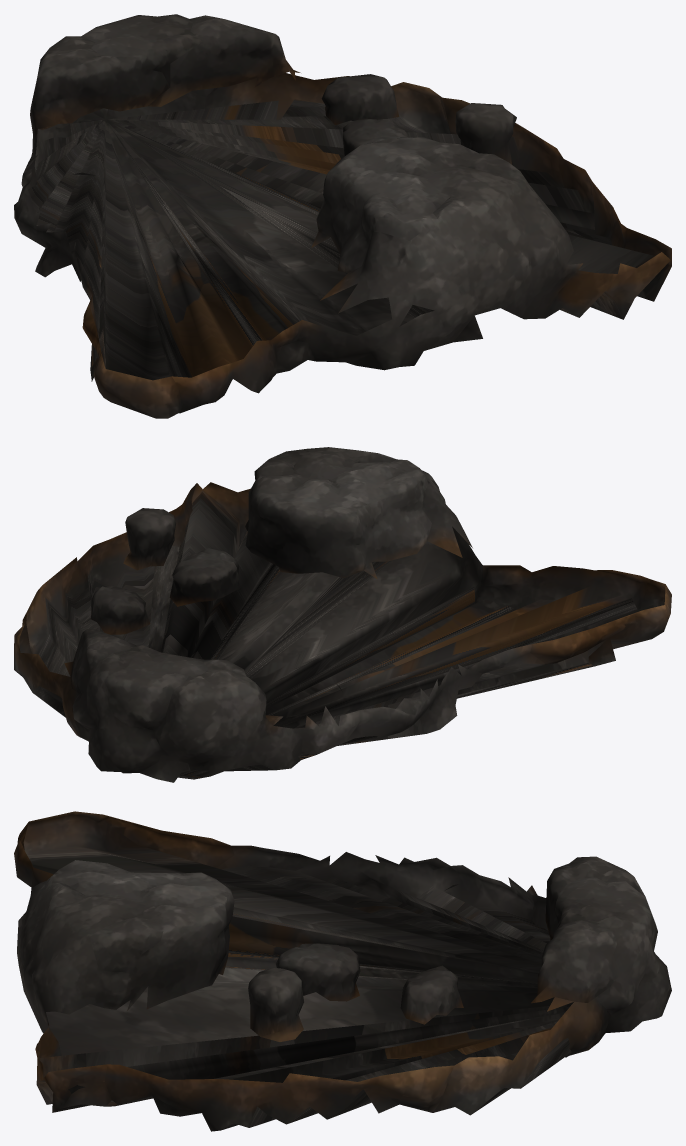
File: platform2collider2.fbx
3 views of the same model, one above another, from view 1: azimuth 30°, elevation 25°; view 2: azimuth 150°, elevation 25°; view 3: azimuth 270°, elevation 25° (orthographic). The views are drawn at different scales.
Visible parts, largest first — view 1: platform2collider2; view 2: platform2collider2; view 3: platform2collider2.
Part boxes in pixels (bbox=[...]): platform2collider2: bbox=[14, 14, 671, 418]; platform2collider2: bbox=[14, 447, 671, 782]; platform2collider2: bbox=[14, 811, 671, 1131].
Size of the model in its own units: 5818 by 1484 by 6002.
